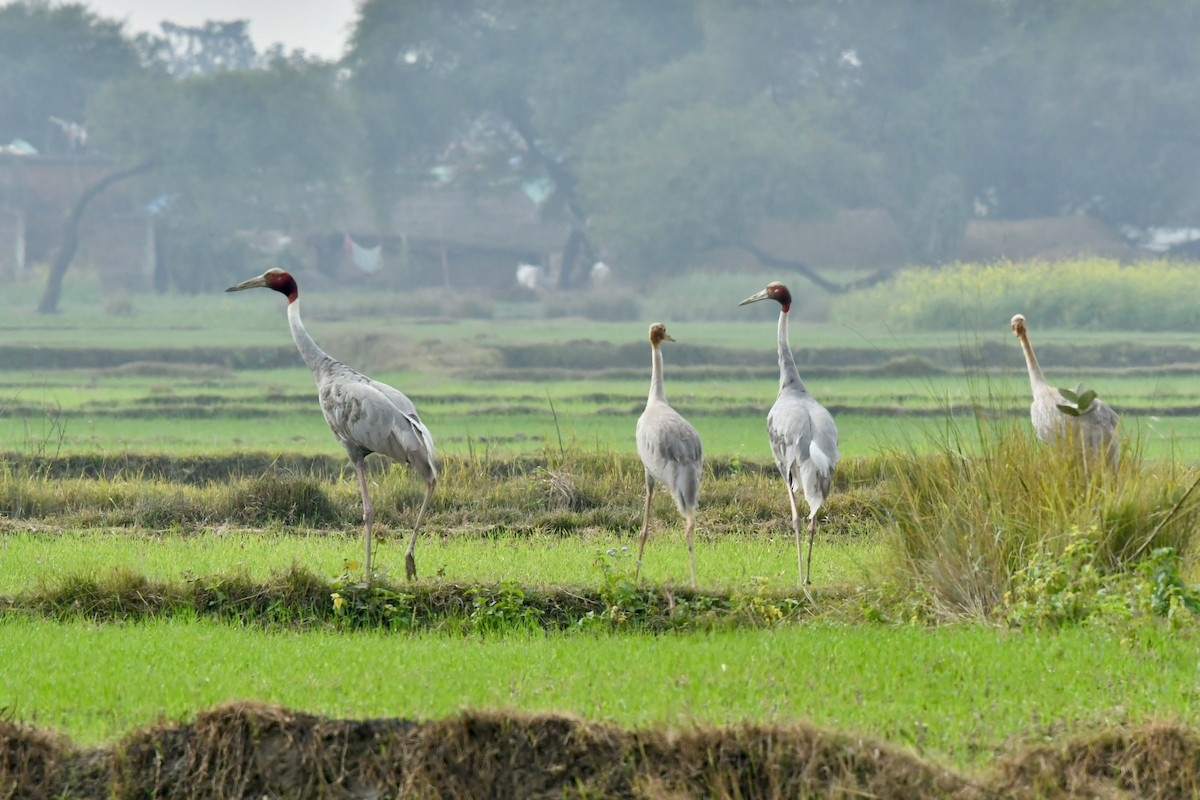crane: (224, 247, 445, 568), (736, 273, 850, 586), (633, 310, 715, 566), (1002, 295, 1116, 465)
